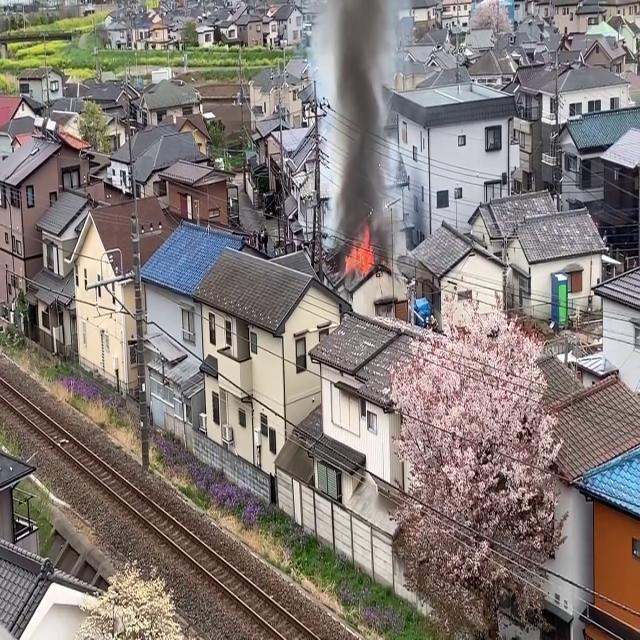Fire: (343, 224, 377, 278)
Smoke: (323, 0, 399, 256)
